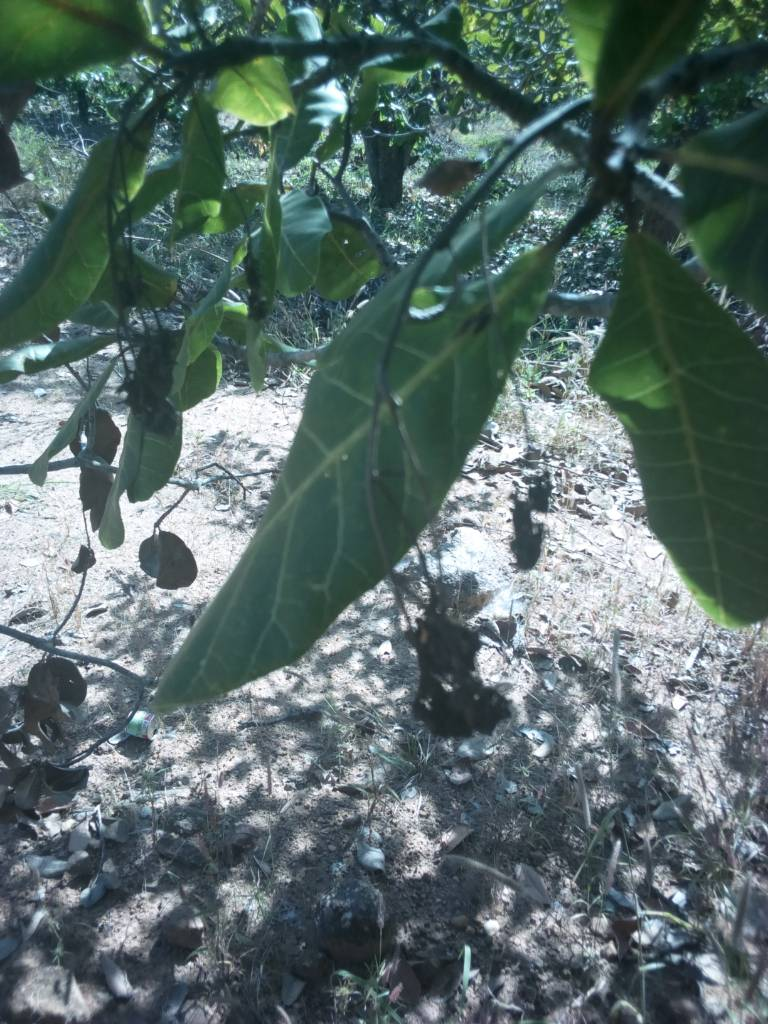Dessèchement des bourgeons: (10, 650, 130, 802), (404, 591, 499, 744), (111, 291, 177, 422), (506, 449, 548, 564)
